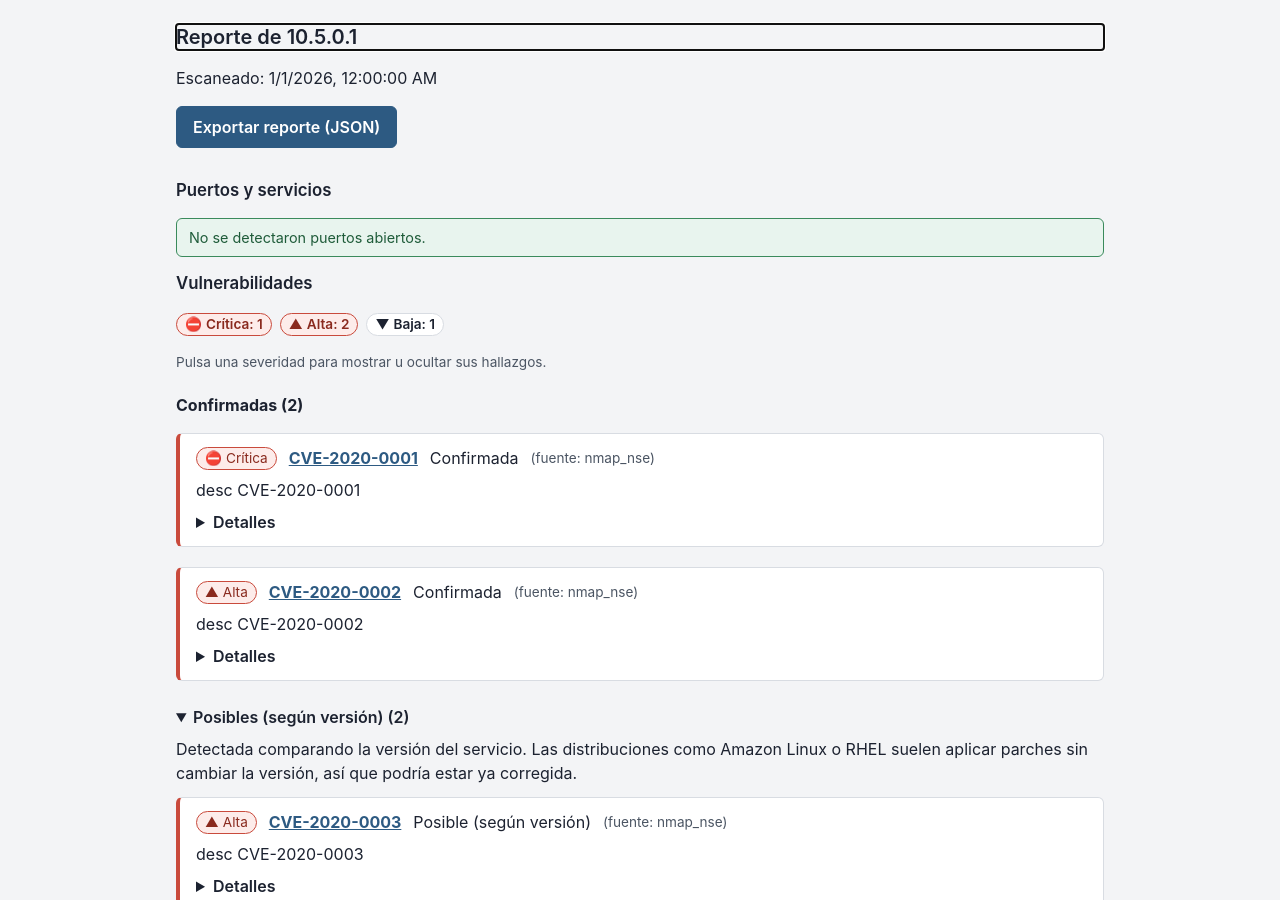
Test: severity filter (RRD-02) › ocultar_una_severidad_quita_sus_filas_y_aria_pressed_lo_refleja
Check: the link "CVE-2020-0002" is shown, box [269,582,401,602]
Click the button "▲Alta: 2" at (319, 324), box [280,313,358,336]
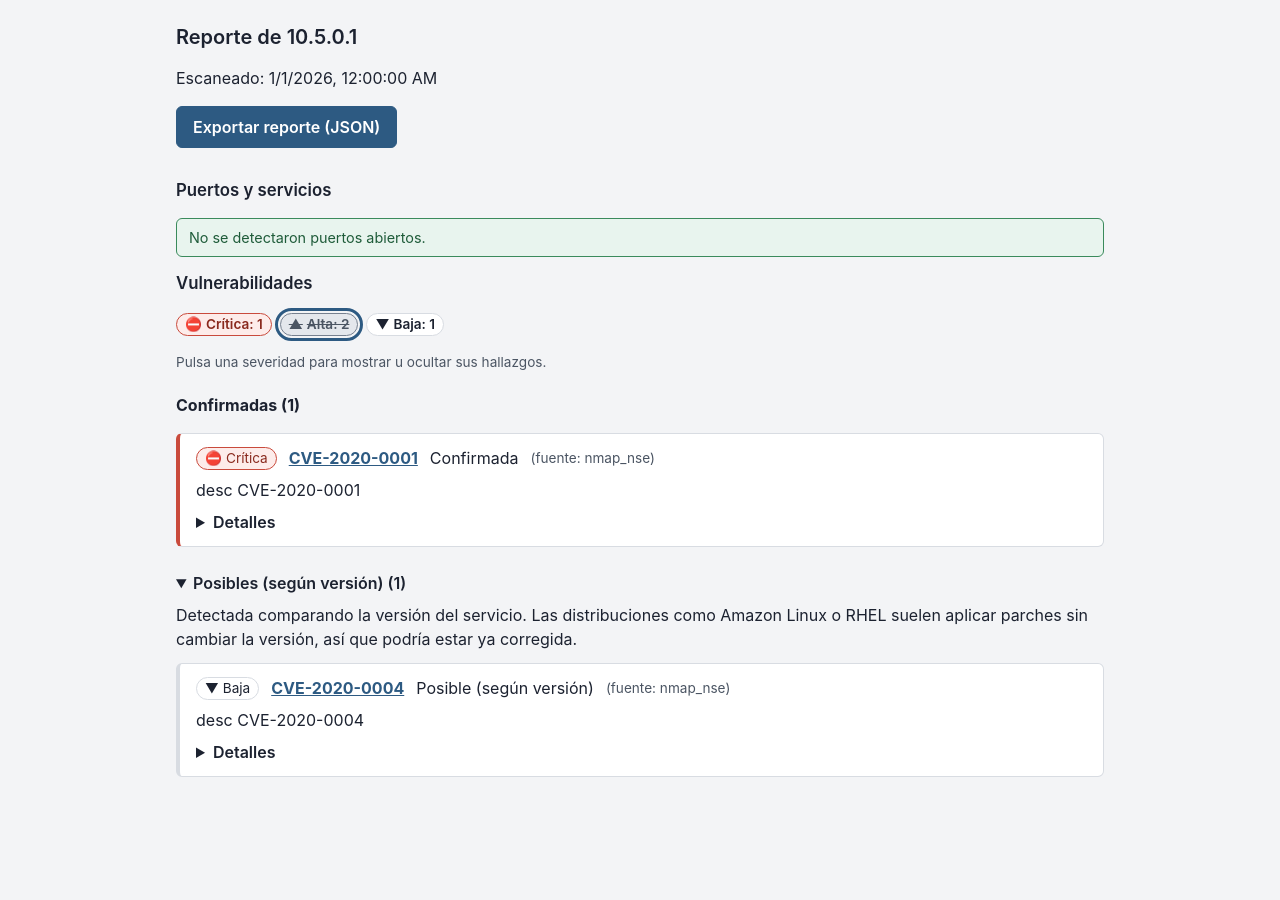
Check: the link "CVE-2020-0001" is shown, box [289,448,418,468]
Check: the link "CVE-2020-0002" is gone
Check: the link "CVE-2020-0003" is gone
Click the button "▲Alta: 2" at (319, 324), box [280,313,358,336]
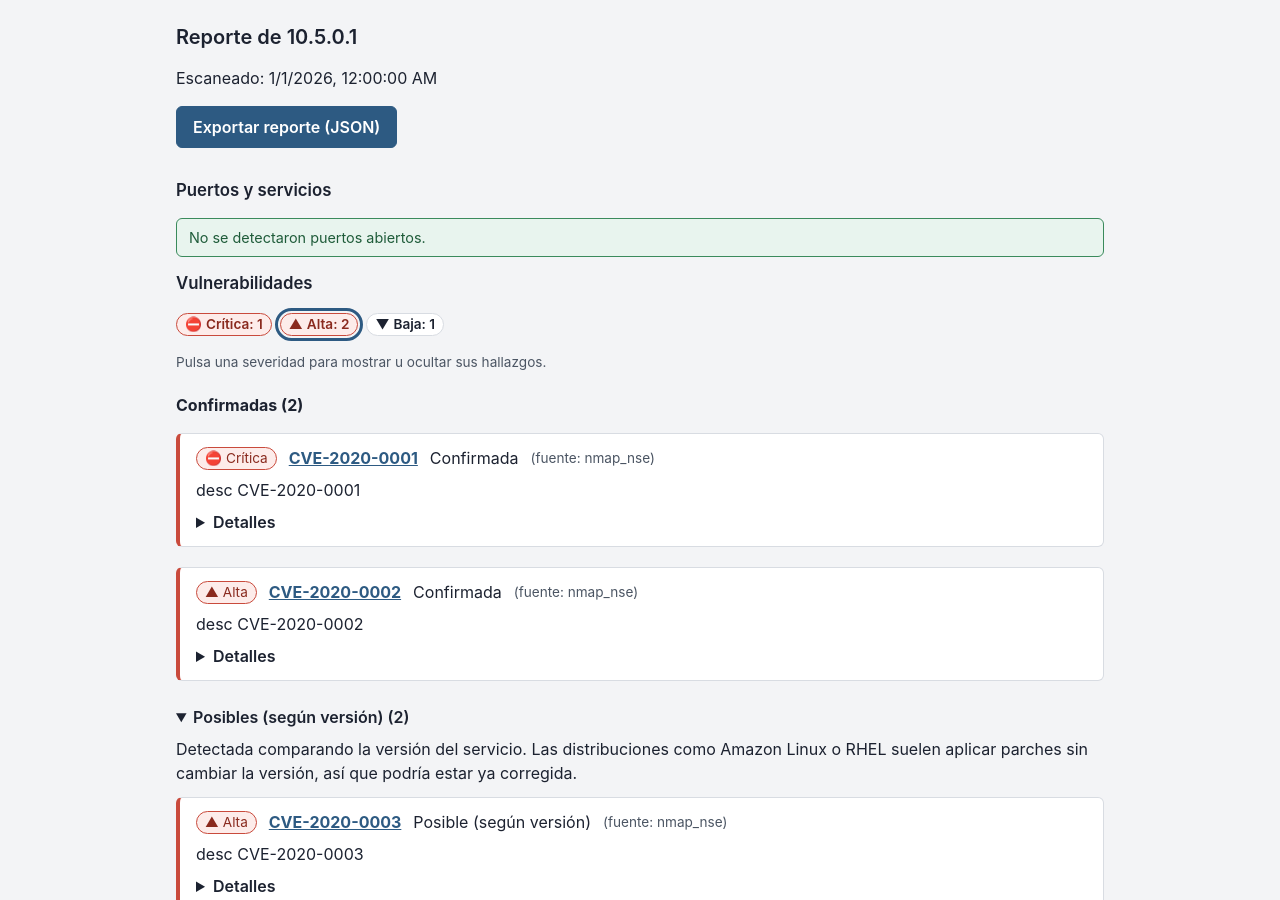
Check: the link "CVE-2020-0002" is shown, box [269,582,401,602]
